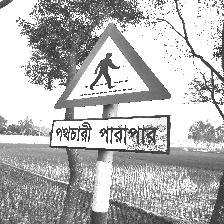Pedestrian-crossing: (51, 23, 174, 154)
